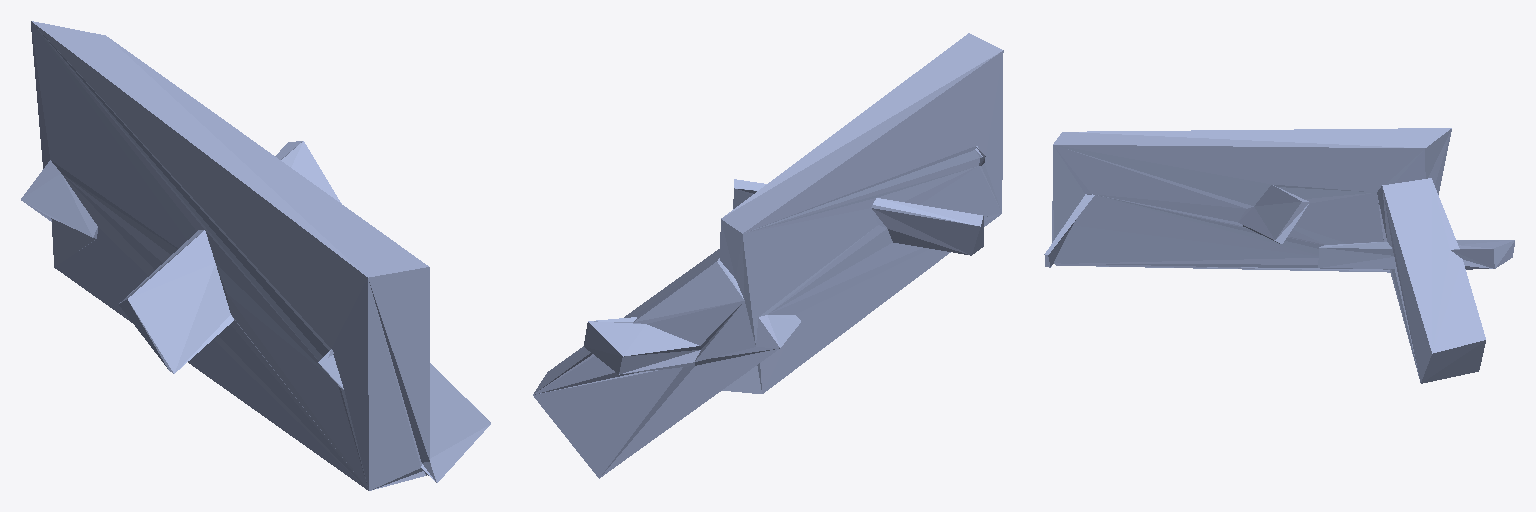
URDF robot description (blob274):

<robot name="blob274">
  <link name="random_obj_274">
    <contact>
      <lateral_friction value="1.0"/>
      <rolling_friction value="0.0"/>
      <inertia_scaling value="3.0"/>
      <contact_cfm value="0.0"/>
      <contact_erp value="1.0"/>
    </contact>
    <inertial>
      <origin rpy="0 0 0" xyz="0 0 0"/>
      <mass value="0.1292"/>
      <inertia ixx="1" ixy="0" ixz="0" iyy="1" iyz="0" izz="0"/>
    </inertial>
    <visual>
      <origin rpy="0 0 0" xyz="0 0 0"/>
      <geometry>
        <mesh filename="274.obj" scale="0.0067 0.0067 0.0067"/>
      </geometry>
      <material name="blockmat">
        <color rgba="0.70 0.75 0.89 1"/>
      </material>
    </visual>
    <collision>
      <origin rpy="0 0 0" xyz="0 0 0"/>
      <geometry>
        <mesh filename="274_coll.obj" scale="0.0067 0.0067 0.0067"/>
      </geometry>
    </collision>
  </link>
</robot>

--- Facts derived from the render (not from the file) ---
The picture shows the robot from 3 angles, left to right: view 1: azimuth 30°, elevation 25°; view 2: azimuth 150°, elevation 25°; view 3: azimuth 270°, elevation 25°; orthographic projection.
Robot: blob274 — 1 links, 0 joints (none); root link random_obj_274; default pose: every joint at zero.
Links seen in each view (by area): view 1: random_obj_274; view 2: random_obj_274; view 3: random_obj_274.
Link boxes in pixels (bbox=[...]): random_obj_274: bbox=[21, 21, 490, 490]; random_obj_274: bbox=[533, 33, 1003, 478]; random_obj_274: bbox=[1044, 128, 1514, 383].
Size in the robot's own frame: 0.0547 by 0.1011 by 0.0481 metres.
Meshes: 1 distinct files referenced, 1 mesh visuals loaded (1 OBJ).
